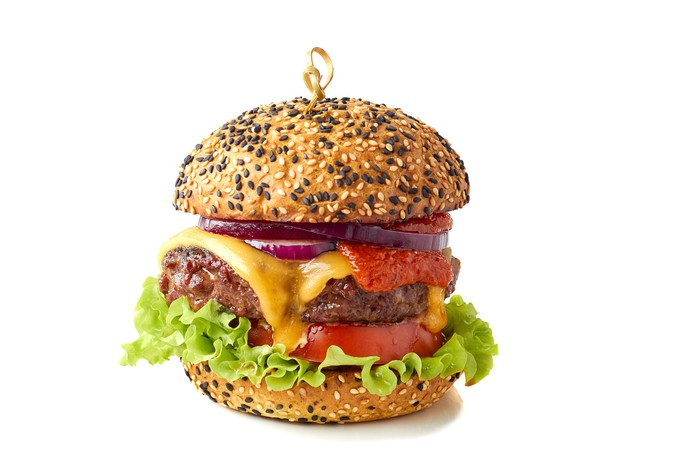hamburger_buns: (170, 74, 482, 225)
